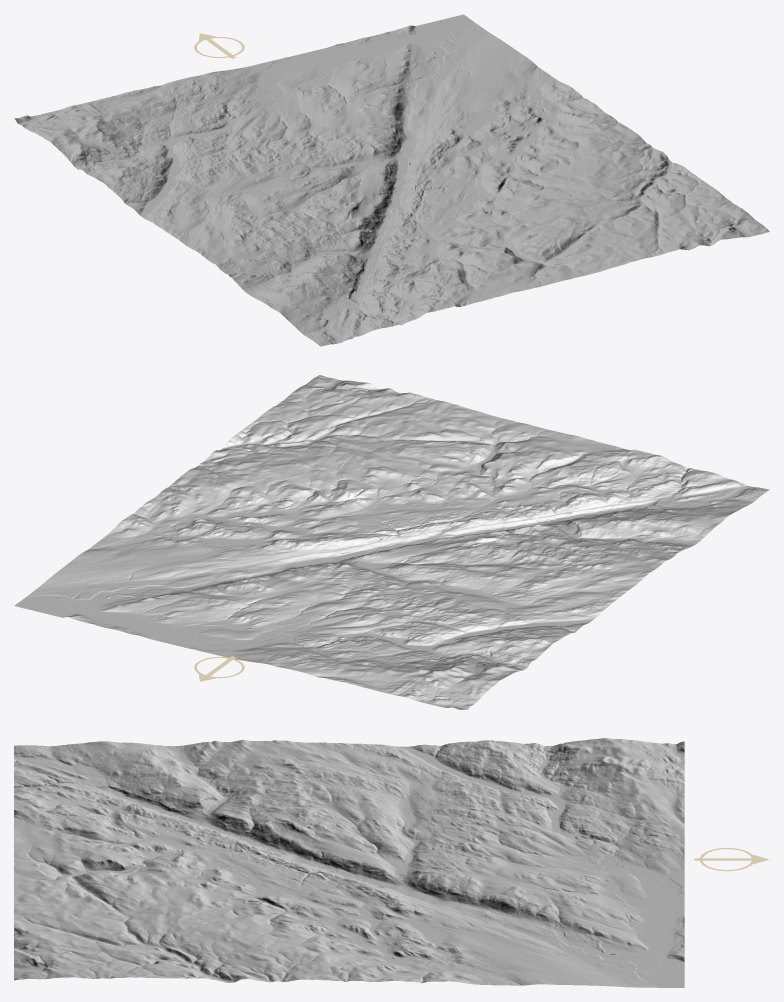
Rendered from Loch_Ness_ODDSCAPE_UKCEH_V3.glb.
3 views of the same model, one above another, from view 1: azimuth 30°, elevation 25°; view 2: azimuth 150°, elevation 25°; view 3: azimuth 270°, elevation 25° (orthographic). The views are drawn at different scales.
Visible parts, largest first — view 1: Loch_Ness_Terrain; view 2: Loch_Ness_Terrain; view 3: Loch_Ness_Terrain, Oddscape_North_Master.
Boxes of the visible parts, x1=… form: Loch_Ness_Terrain: x1=14, y1=14, x2=769, y2=346; Loch_Ness_Terrain: x1=14, y1=375, x2=769, y2=709; Loch_Ness_Terrain: x1=14, y1=738, x2=684, y2=987; Oddscape_North_Master: x1=694, y1=848, x2=769, y2=871.
Size of the model in its own units: 0.8472 by 0.025 by 1.13.
Materials: 2 (1 with a texture image).
